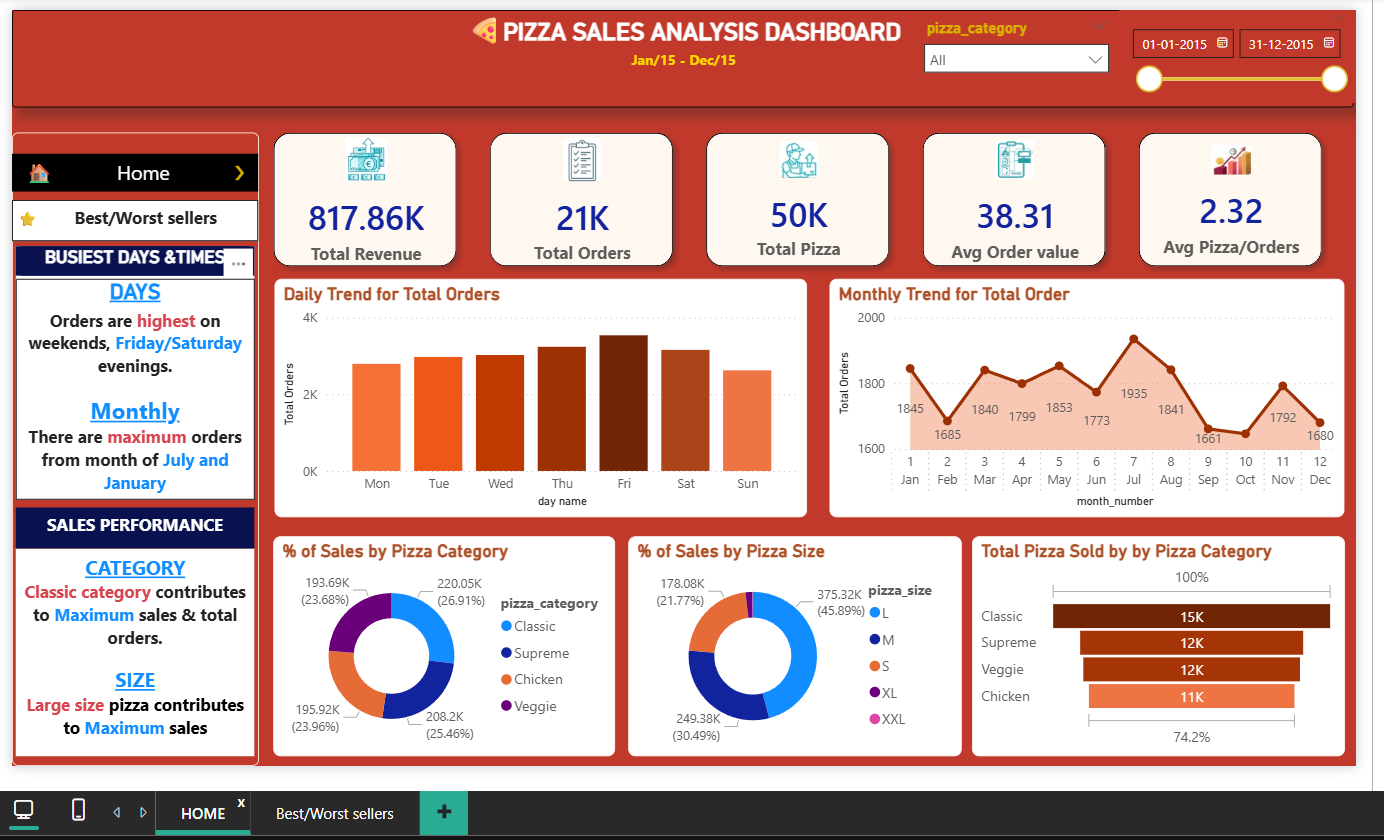

Layout of this report page (visuals, bound fields, positions):
{"tool":"powerbi","page":{"name":"HOME","canvas":[1280,720],"ordinal":0},"visuals":[{"type":"cardVisual","fields":{"Data":["pizza_sales.Total Revenue","pizza_sales.Total Orders","pizza_sales.Total Pizza","pizza_sales.Avg Order value","pizza_sales.Avg Pizza/Orders"]},"box":[220,88.2,1057.6,185.9],"z":0},{"type":"textbox","box":[0,117,235.2,602.8],"z":1000},{"type":"textbox","title":"🍕PIZZA SALES ANALYSIS DASHBOARD","box":[0,0,1277.9,93],"z":2000},{"type":"columnChart","title":"Daily Trend for Total Orders","fields":{"Y":["pizza_sales.Total Orders"],"Category":["pizza_sales.day name"]},"box":[249.4,256.5,507.1,227.1],"z":3000},{"type":"stackedAreaChart","title":"Monthly Trend for Total Order","fields":{"Y":["pizza_sales.Total Orders"],"Category":["pizza_sales.month_name","pizza_sales.month_number"]},"box":[778.8,256.5,490.6,227.1],"z":4000},{"type":"donutChart","title":"% of Sales by Pizza Category","fields":{"Category":["pizza_sales.pizza_category"],"Y":["pizza_sales.Total Revenue"]},"box":[248.8,501.2,325.6,209.3],"z":5000},{"type":"donutChart","title":"% of Sales by Pizza Size","fields":{"Y":["pizza_sales.Total Revenue"],"Category":["pizza_sales.pizza_size"]},"box":[587.1,501.2,317.6,209.4],"z":6000},{"type":"funnel","title":"Total Pizza Sold by by Pizza Category","fields":{"Category":["pizza_sales.pizza_category"],"Y":["pizza_sales.Total Pizza"]},"box":[914.1,501.2,355.3,209.4],"z":7000},{"type":"textbox","box":[0,136.4,234.1,36.4],"z":8000},{"type":"textbox","box":[0,181.2,234.1,39.2],"z":9000},{"type":"slicer","fields":{"Values":["pizza_sales.order_date"]},"box":[1054.5,0,226,88.3],"z":10000},{"type":"textbox","title":"BUSIEST DAYS &TIMES","box":[3.4,224.4,227.3,31.8],"z":11000},{"type":"textbox","title":"DAYS","box":[3.4,256.2,227.3,210.8],"z":12000},{"type":"textbox","box":[3.5,474.1,227.1,38.8],"z":13000},{"type":"textbox","box":[3.6,513.1,227.4,197.6],"z":14000},{"type":"slicer","title":"Pizza Category","fields":{"Values":["pizza_sales.pizza_category"]},"box":[858.4,3.9,196.1,61],"z":15000}]}

Visuals, with their boxes on the page's 1280x720 design canvas (x1, y1, x2, y2). These are canvas units, not pixel positions in the 1384x840 screenshot, which may show the page scaled, cropped or inside an application window:
cardVisual - pizza_sales.Total Revenue x pizza_sales.Total Orders: 220:88:1278:274
textbox: 0:117:235:720
"🍕PIZZA SALES ANALYSIS DASHBOARD" textbox: 0:0:1278:93
"Daily Trend for Total Orders" columnChart: 249:256:756:484
"Monthly Trend for Total Order" stackedAreaChart: 779:256:1269:484
"% of Sales by Pizza Category" donutChart: 249:501:574:710
"% of Sales by Pizza Size" donutChart: 587:501:905:711
"Total Pizza Sold by by Pizza Category" funnel: 914:501:1269:711
textbox: 0:136:234:173
textbox: 0:181:234:220
slicer - pizza_sales.order_date: 1054:0:1280:88
"BUSIEST DAYS &TIMES" textbox: 3:224:231:256
"DAYS" textbox: 3:256:231:467
textbox: 4:474:231:513
textbox: 4:513:231:711
"Pizza Category" slicer: 858:4:1054:65
